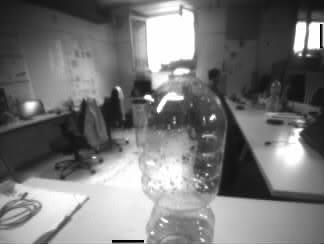Bottle: (138, 62, 224, 244), (270, 76, 280, 112)
